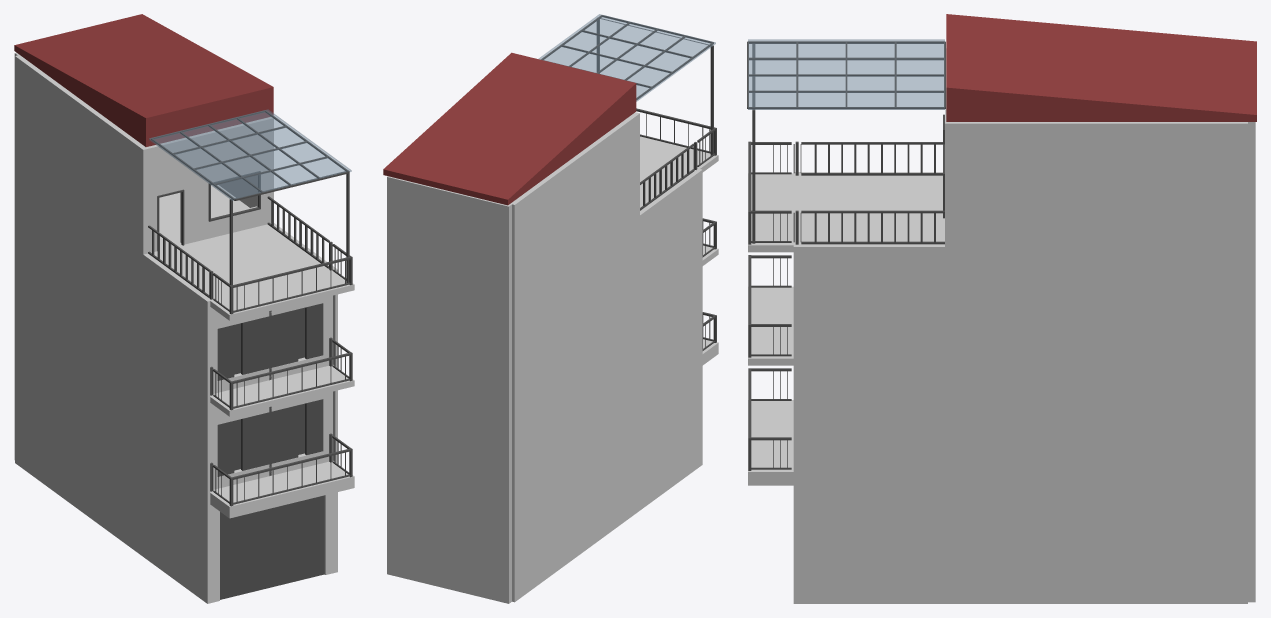
Rendered from VietnameseTubeHouse.glb.
3 renders of one model, left to right at view 1: azimuth 30°, elevation 25°; view 2: azimuth 150°, elevation 25°; view 3: azimuth 270°, elevation 25°, orthographic. The views are drawn at different scales.
Parts seen in each view (by area): view 1: House_Walls, House_Metal_Structure, House_Slanted_Roof, House_Glass_Panels; view 2: House_Walls, House_Slanted_Roof, House_Glass_Panels, House_Metal_Structure; view 3: House_Walls, House_Slanted_Roof, House_Glass_Panels, House_Metal_Structure.
Part boxes in pixels (x1,y1,x2,y2): House_Walls: (14, 52, 354, 603); House_Metal_Structure: (148, 110, 352, 599); House_Slanted_Roof: (14, 14, 273, 146); House_Glass_Panels: (149, 109, 351, 200); House_Walls: (387, 112, 718, 603); House_Slanted_Roof: (383, 52, 636, 205); House_Glass_Panels: (538, 14, 715, 101); House_Metal_Structure: (541, 15, 716, 350); House_Walls: (748, 48, 1255, 603); House_Slanted_Roof: (946, 14, 1256, 121); House_Glass_Panels: (748, 39, 944, 109); House_Metal_Structure: (747, 41, 945, 470).
Bounding box in the file's own units: 4.71 × 15.05 × 13.46.
